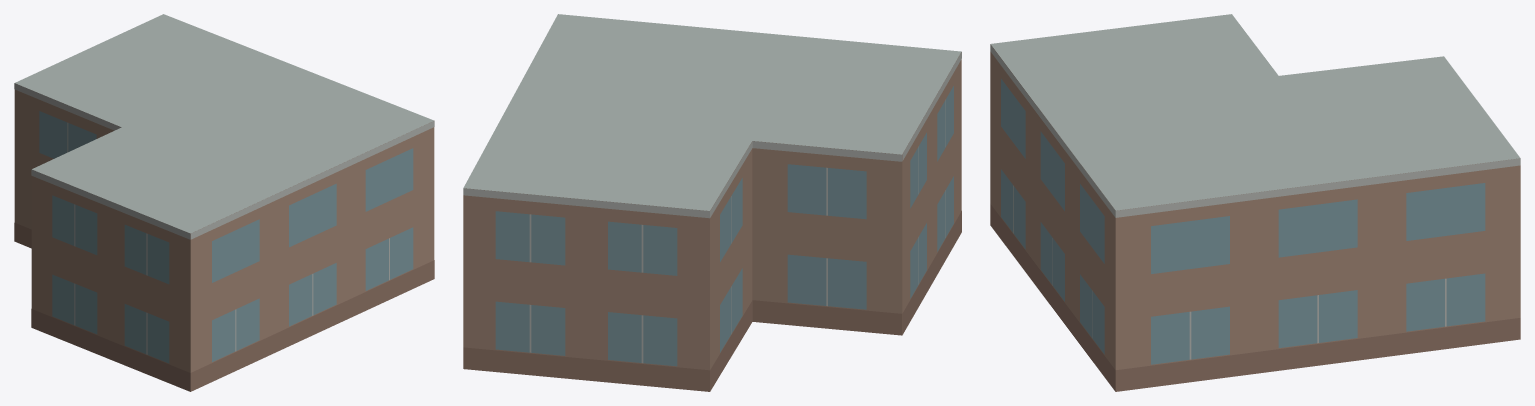
File: survey-upis-32663651.glb
The picture shows the model from 3 angles, left to right: view 1: azimuth 30°, elevation 25°; view 2: azimuth 150°, elevation 25°; view 3: azimuth 270°, elevation 25°; orthographic projection. The views are drawn at different scales.
Visible parts, largest first — view 1: survey-upis-32663651.tmp; view 2: survey-upis-32663651.tmp; view 3: survey-upis-32663651.tmp.
Part boxes in pixels (bbox=[...]): survey-upis-32663651.tmp: bbox=[14, 14, 434, 391]; survey-upis-32663651.tmp: bbox=[463, 14, 961, 391]; survey-upis-32663651.tmp: bbox=[990, 14, 1520, 391].
Bounding box in the file's own units: 14.21 × 6.1 × 16.19.
